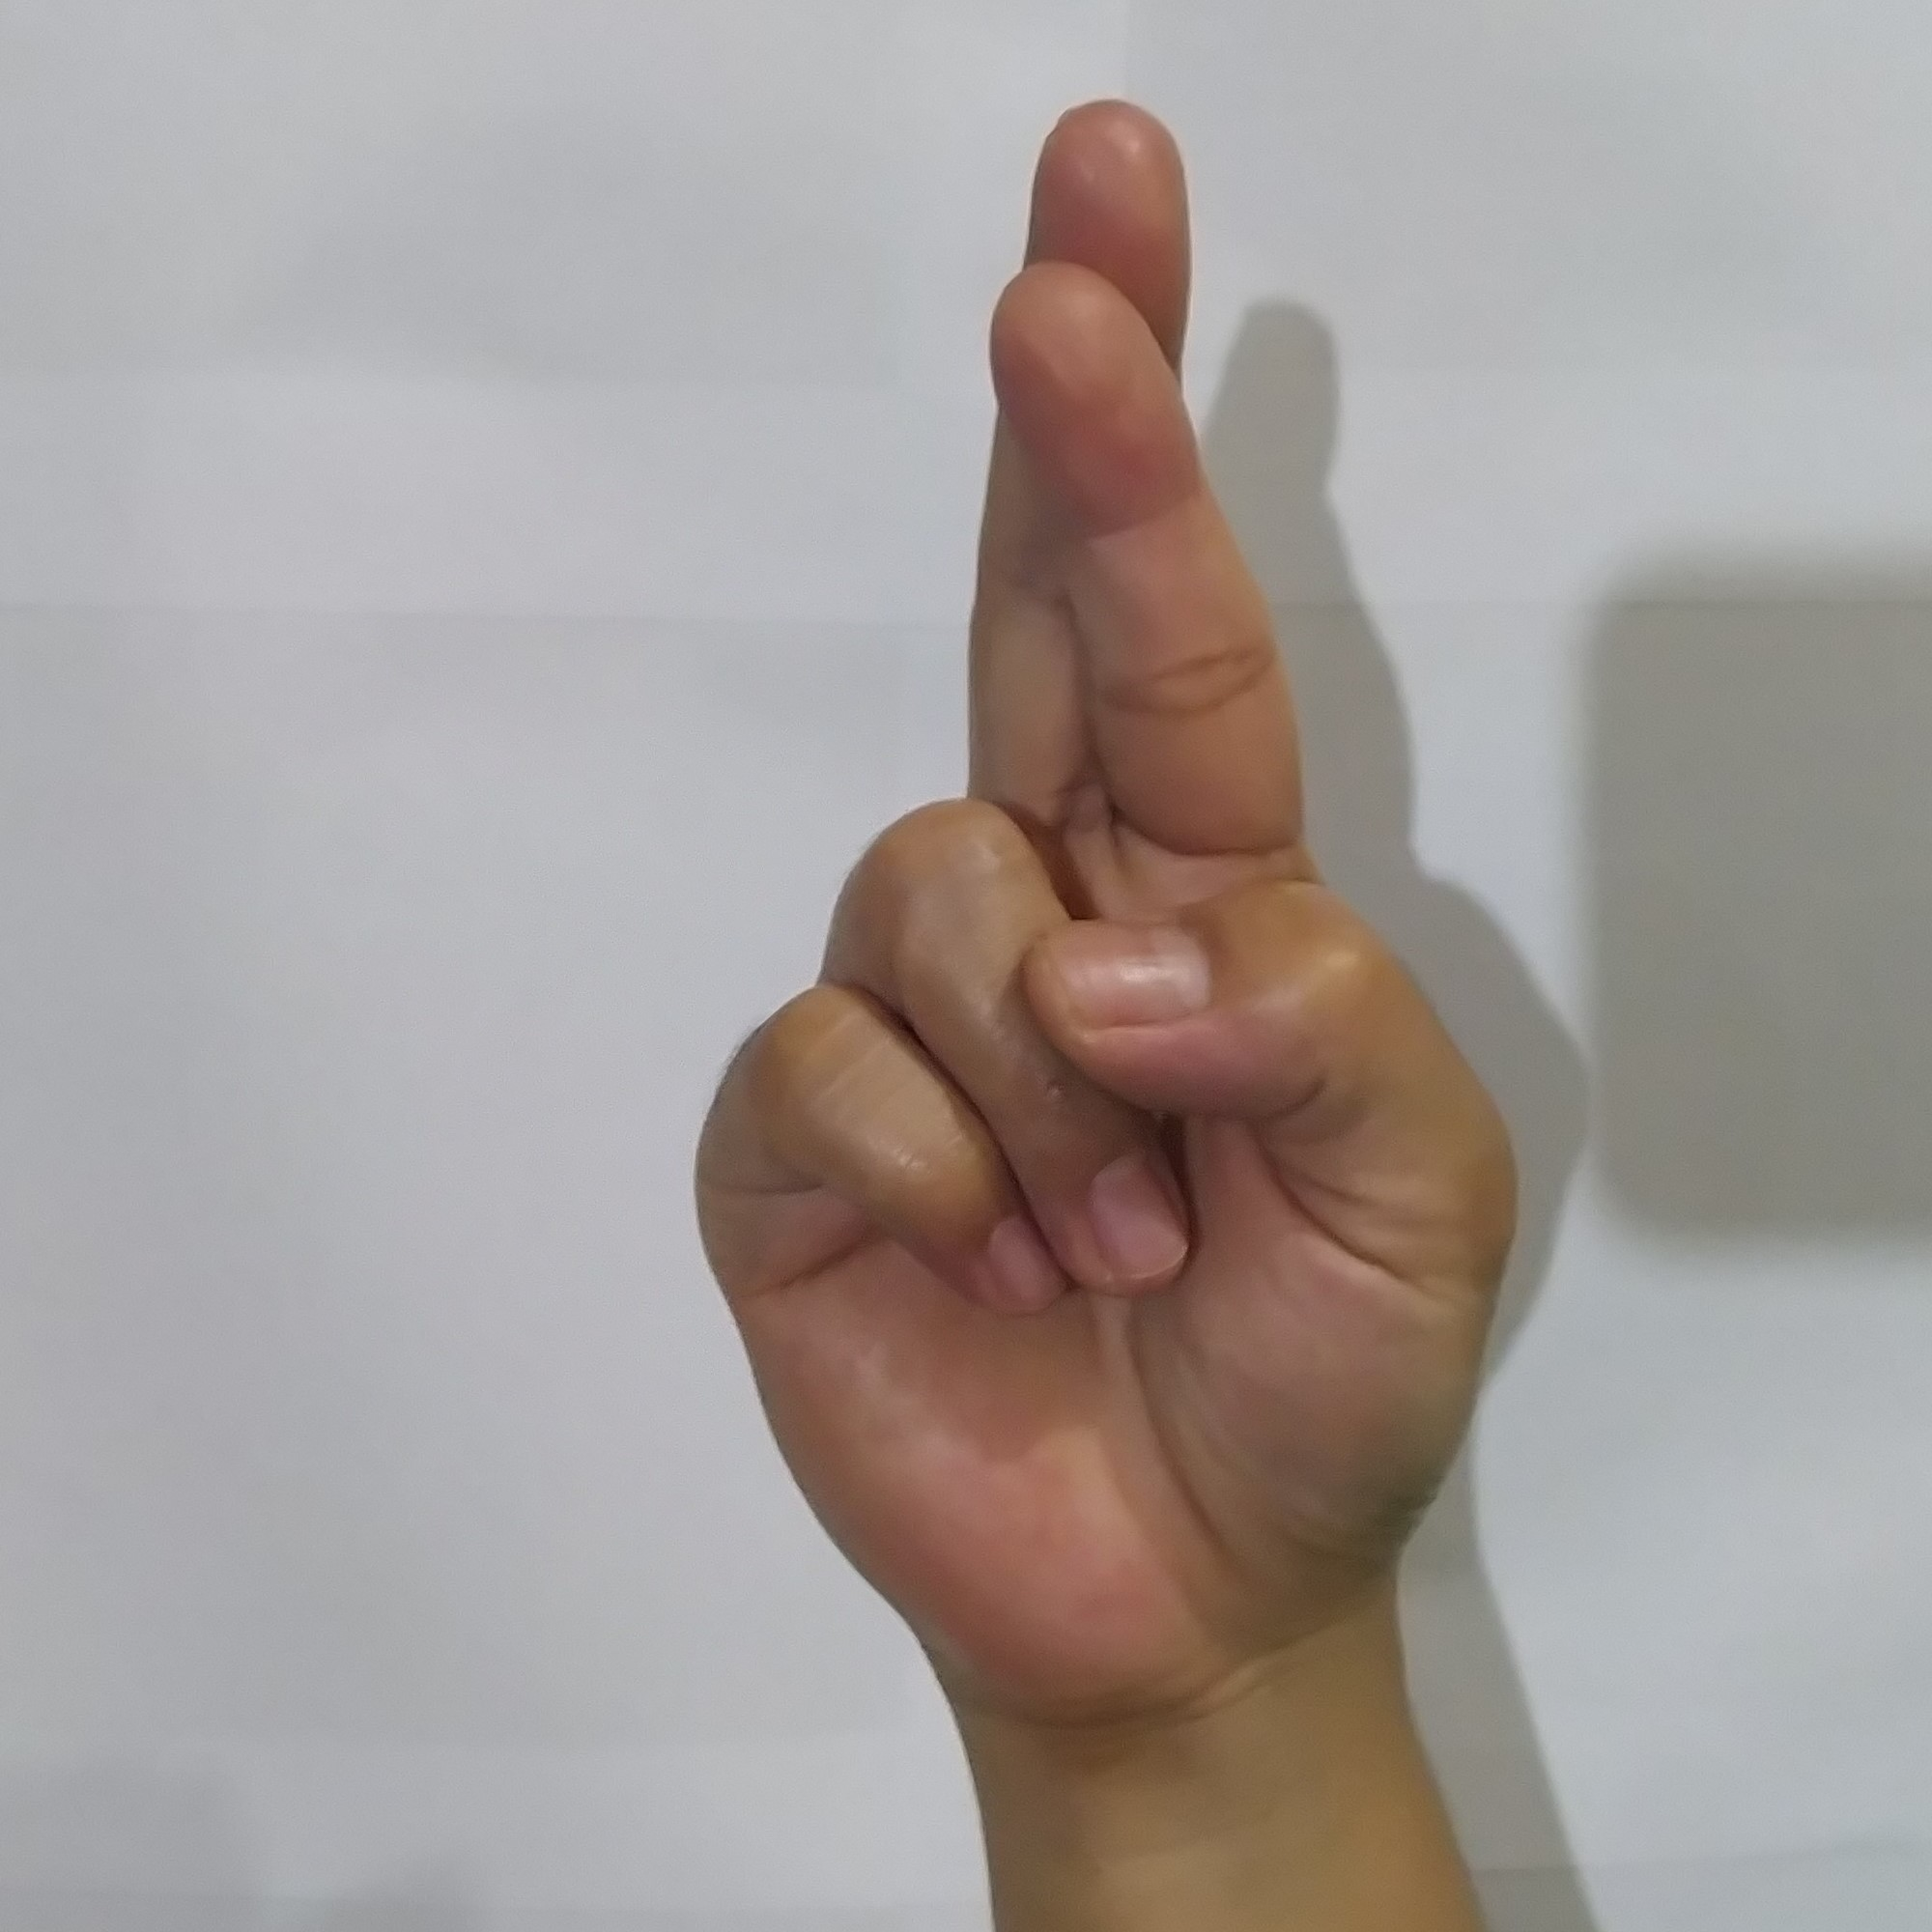R: (653, 67, 1553, 1698)
